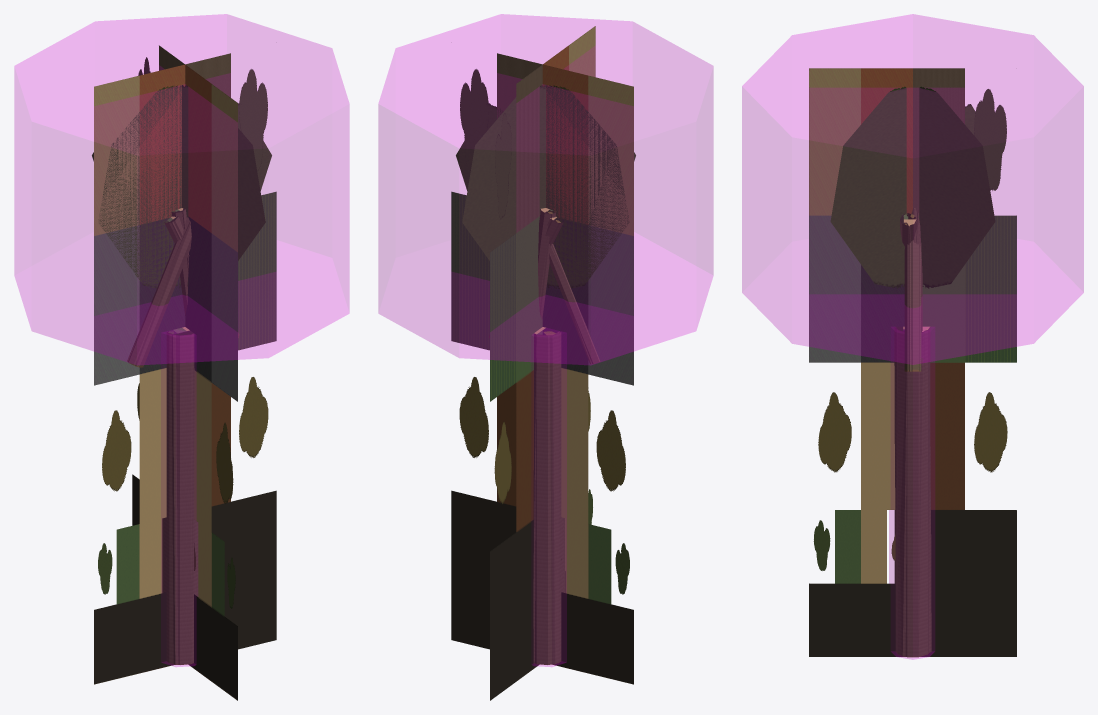
The model's file is mesquite_large.dae.
The picture shows the model from 3 angles, left to right: view 1: azimuth 30°, elevation 25°; view 2: azimuth 150°, elevation 25°; view 3: azimuth 270°, elevation 25°; orthographic projection.
Visible parts, largest first — view 1: Colmesh_canopy-1, mesquite_large_a50, mesquite_large_a800, mesquite_large_a200, Colmesh_trunk-1; view 2: Colmesh_canopy-1, mesquite_large_a50, mesquite_large_a800, mesquite_large_a200, Colmesh_trunk-1; view 3: Colmesh_canopy-1, mesquite_large_a50, mesquite_large_a800, Colmesh_trunk-1, mesquite_large_a200.
Part boxes in pixels (left/top/right/bottom): Colmesh_canopy-1: left=14, top=14, right=349, bottom=365; mesquite_large_a50: left=94, top=45, right=276, bottom=700; mesquite_large_a800: left=92, top=85, right=271, bottom=664; mesquite_large_a200: left=92, top=86, right=271, bottom=664; Colmesh_trunk-1: left=161, top=363, right=197, bottom=666; Colmesh_canopy-1: left=378, top=14, right=713, bottom=365; mesquite_large_a50: left=451, top=26, right=633, bottom=700; mesquite_large_a800: left=456, top=85, right=635, bottom=664; mesquite_large_a200: left=456, top=86, right=635, bottom=664; Colmesh_trunk-1: left=532, top=363, right=566, bottom=666; Colmesh_canopy-1: left=742, top=14, right=1083, bottom=364; mesquite_large_a50: left=809, top=68, right=1016, bottom=656; mesquite_large_a800: left=830, top=86, right=995, bottom=657; Colmesh_trunk-1: left=889, top=362, right=934, bottom=659; mesquite_large_a200: left=830, top=88, right=994, bottom=656.
Size of the model in its own units: 3.15 by 3.15 by 5.99.
Materials: 3 (2 with a texture image).
